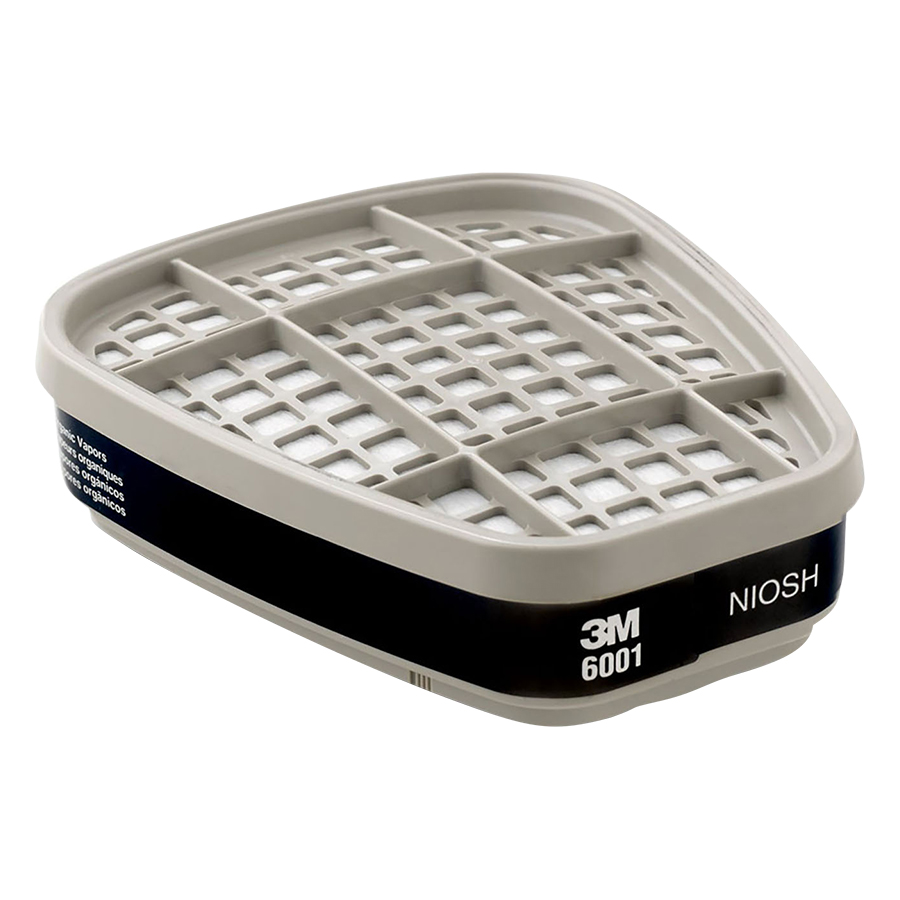3M: (574, 603, 651, 654)
